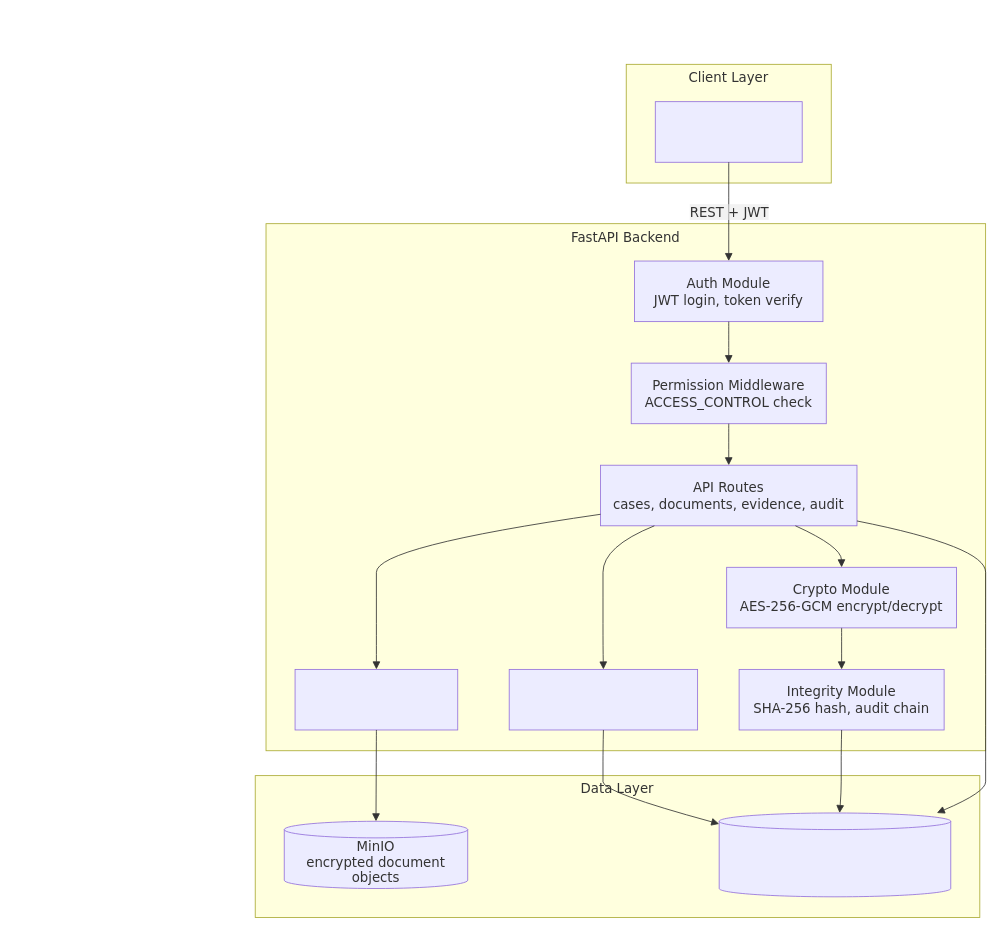
This 1000x932 diagram has some shape labels left out. The shapes that lost their labels are listed below. From the top down, each one's centre as x and y in pixels, then its label:
the point at 728,131: Frontend HTML + JS pages
the point at 376,699: Storage Module MinIO SDK wrapper
the point at 603,699: OCR/AI Module Tesseract, auto-tagging
the point at 834,854: Postgres users, cases, documents, evidence, access_control, audit_logs
